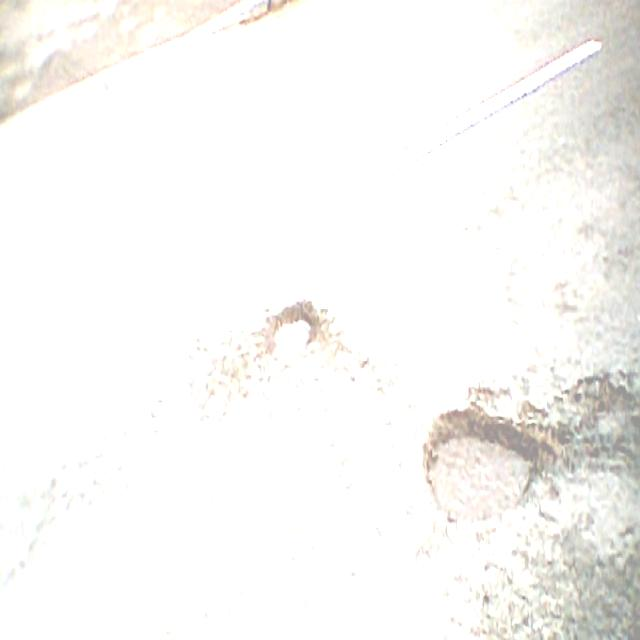Pothole: (203, 281, 640, 621)
